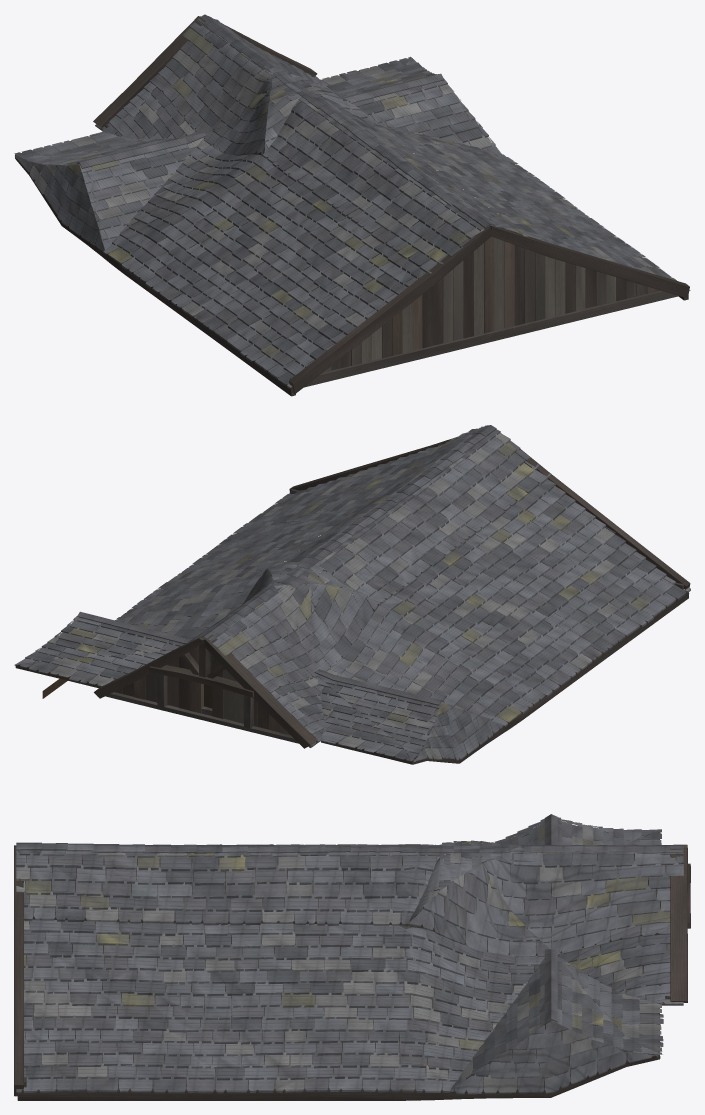
File: gatehouse-roof.glb
The picture shows the model from 3 angles, top to bottom: view 1: azimuth 30°, elevation 25°; view 2: azimuth 150°, elevation 25°; view 3: azimuth 270°, elevation 25°; orthographic projection. The views are drawn at different scales.
Parts seen in each view (by area): view 1: GatehouseSlate, GatehouseOuterOak; view 2: GatehouseSlate, GatehouseOuterOak; view 3: GatehouseSlate, GatehouseOuterOak.
Boxes of the visible parts, x1,y1,x2,y2 form: GatehouseSlate: [14, 15, 690, 389]; GatehouseOuterOak: [15, 14, 689, 396]; GatehouseSlate: [14, 425, 690, 761]; GatehouseOuterOak: [15, 431, 690, 764]; GatehouseSlate: [16, 814, 683, 1094]; GatehouseOuterOak: [14, 824, 690, 1100].
Bounding box in the file's own units: 7.95 × 2.36 × 9.99.
Materials: 2 (2 with a texture image).
